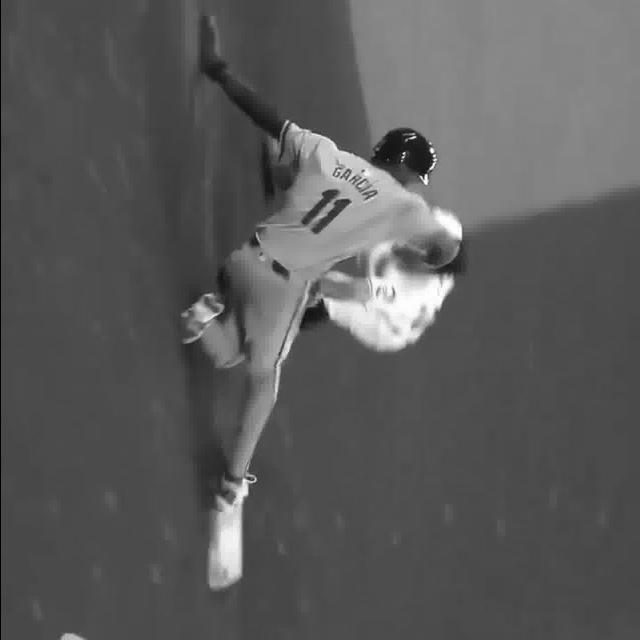base: (207, 494, 244, 592)
shoe: (177, 294, 223, 346), (213, 478, 251, 510)
